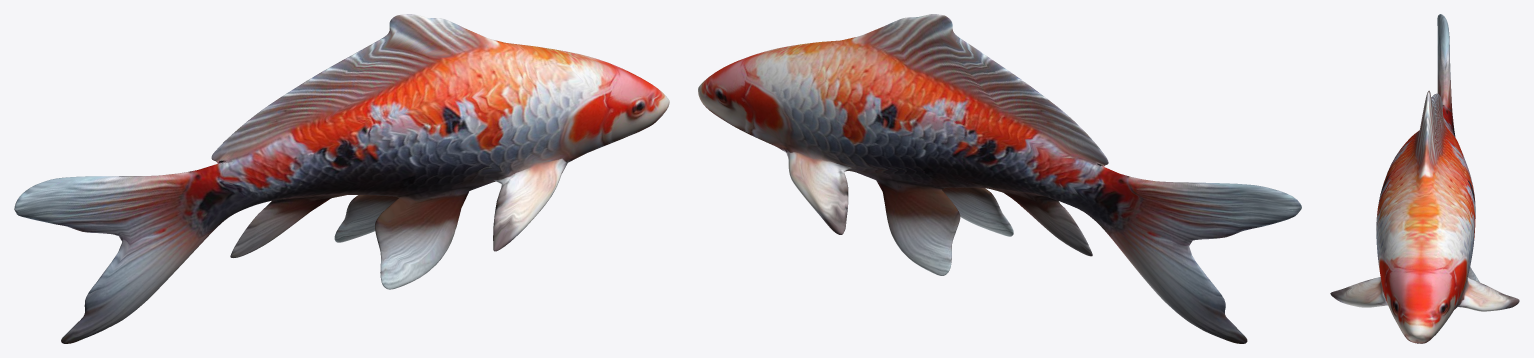
File: koi_7plus_refined.glb
The picture shows the model from 3 angles, left to right: view 1: azimuth 30°, elevation 25°; view 2: azimuth 150°, elevation 25°; view 3: azimuth 270°, elevation 25°; orthographic projection. The views are drawn at different scales.
Parts seen in each view (by area): view 1: Koi_Skin; view 2: Koi_Skin; view 3: Koi_Skin.
Boxes of the visible parts, x1=… form: Koi_Skin: x1=14, y1=14, x2=669, y2=343; Koi_Skin: x1=698, y1=14, x2=1301, y2=343; Koi_Skin: x1=1330, y1=14, x2=1519, y2=343.
Size of the model in its own units: 0.1677 by 0.0644 by 0.0479.
1 material, 1 textured.
